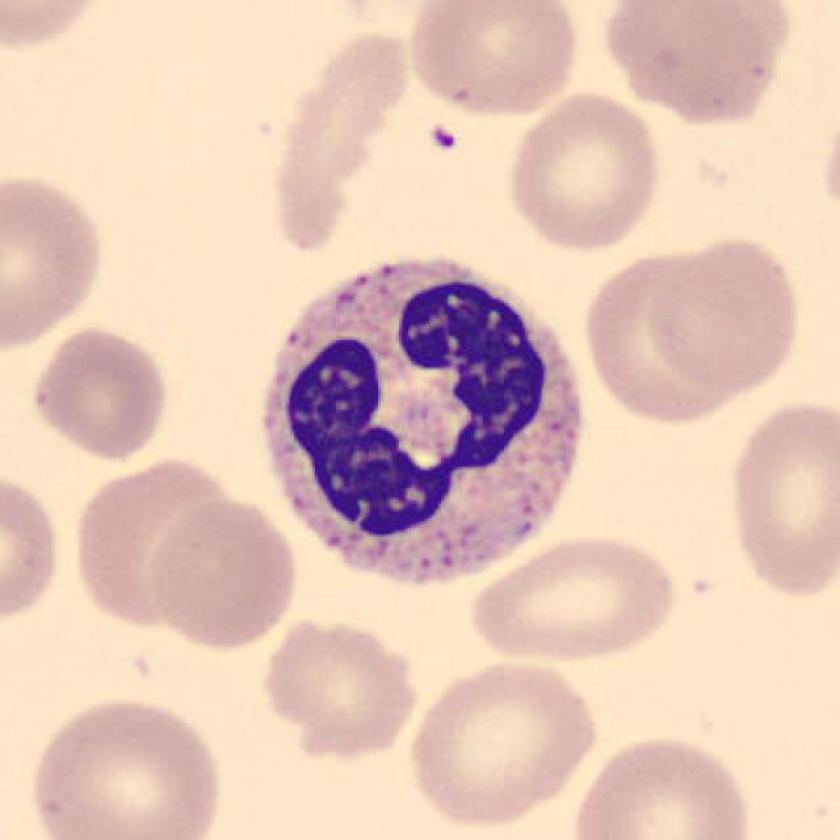neutrophil: (264, 260, 583, 584)
